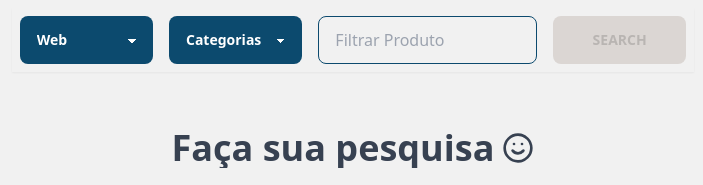
App tests › button starts disabled, then enabled after selecting web and category
Expected: the button "Search" is disabled, [553,16,686,64]
Select "MercadoLivre (API)" in the dropdown named "web": (86, 40) [20,16,153,64]
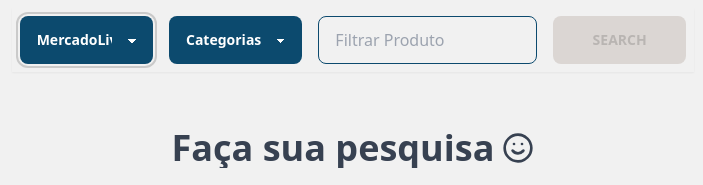
Select "Geladeira" in the dropdown named "categorias": (236, 40) [169,16,302,64]
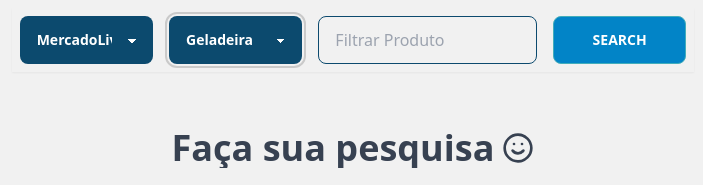
Result: the button "Search" is enabled at [553,16,686,64]
